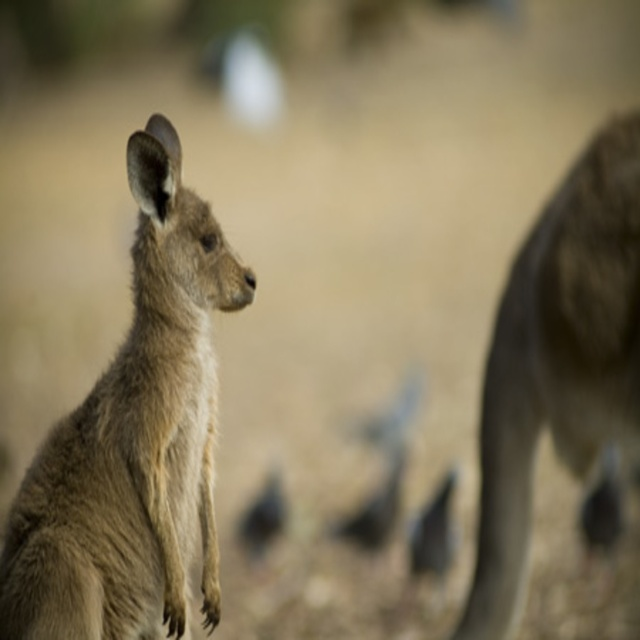Kangaroo: (0, 112, 258, 640), (451, 103, 640, 640)
